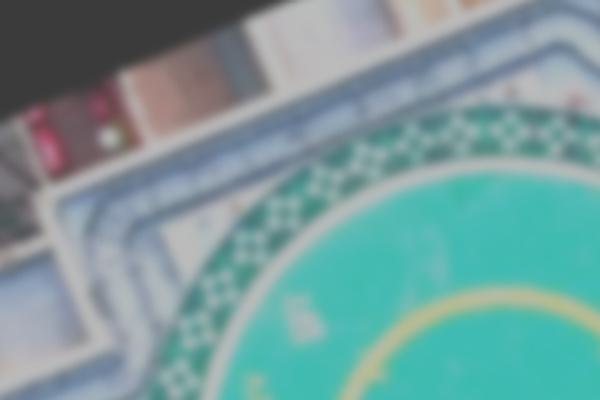Apron: (361, 293, 587, 400)
